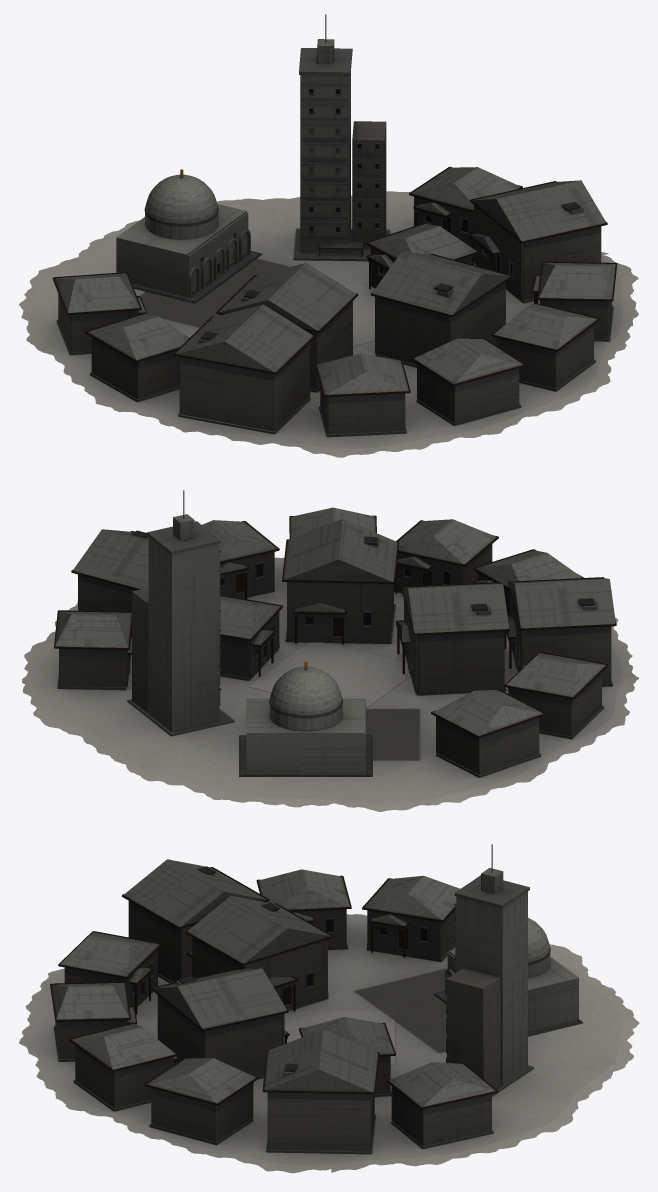
File: modern-town-medium-a-westafrica-2eb18e75.glb
3 renders of one model, top to bottom at view 1: azimuth 30°, elevation 25°; view 2: azimuth 150°, elevation 25°; view 3: azimuth 270°, elevation 25°, orthographic.
Visible parts, largest first — view 1: LOD0; view 2: LOD0; view 3: LOD0.
Boxes of the visible parts, x1=… form: LOD0: x1=19, y1=14, x2=638, y2=457; LOD0: x1=22, y1=490, x2=638, y2=811; LOD0: x1=19, y1=844, x2=639, y2=1173.
Size of what is drawn, in the model's own units: 5.98 by 2.4 by 5.93.
3 materials, 3 textured.
